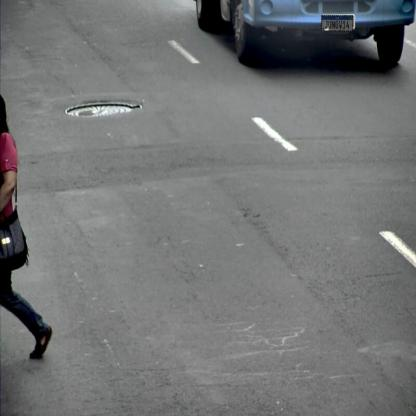PlacaM: (321, 15, 353, 31)
